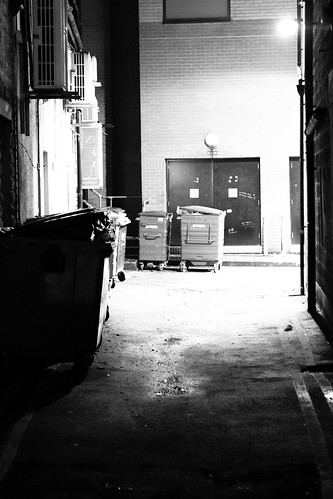building: (136, 1, 333, 264), (1, 1, 111, 212)
dumpster: (3, 203, 133, 366), (171, 202, 227, 274), (134, 204, 174, 278)
